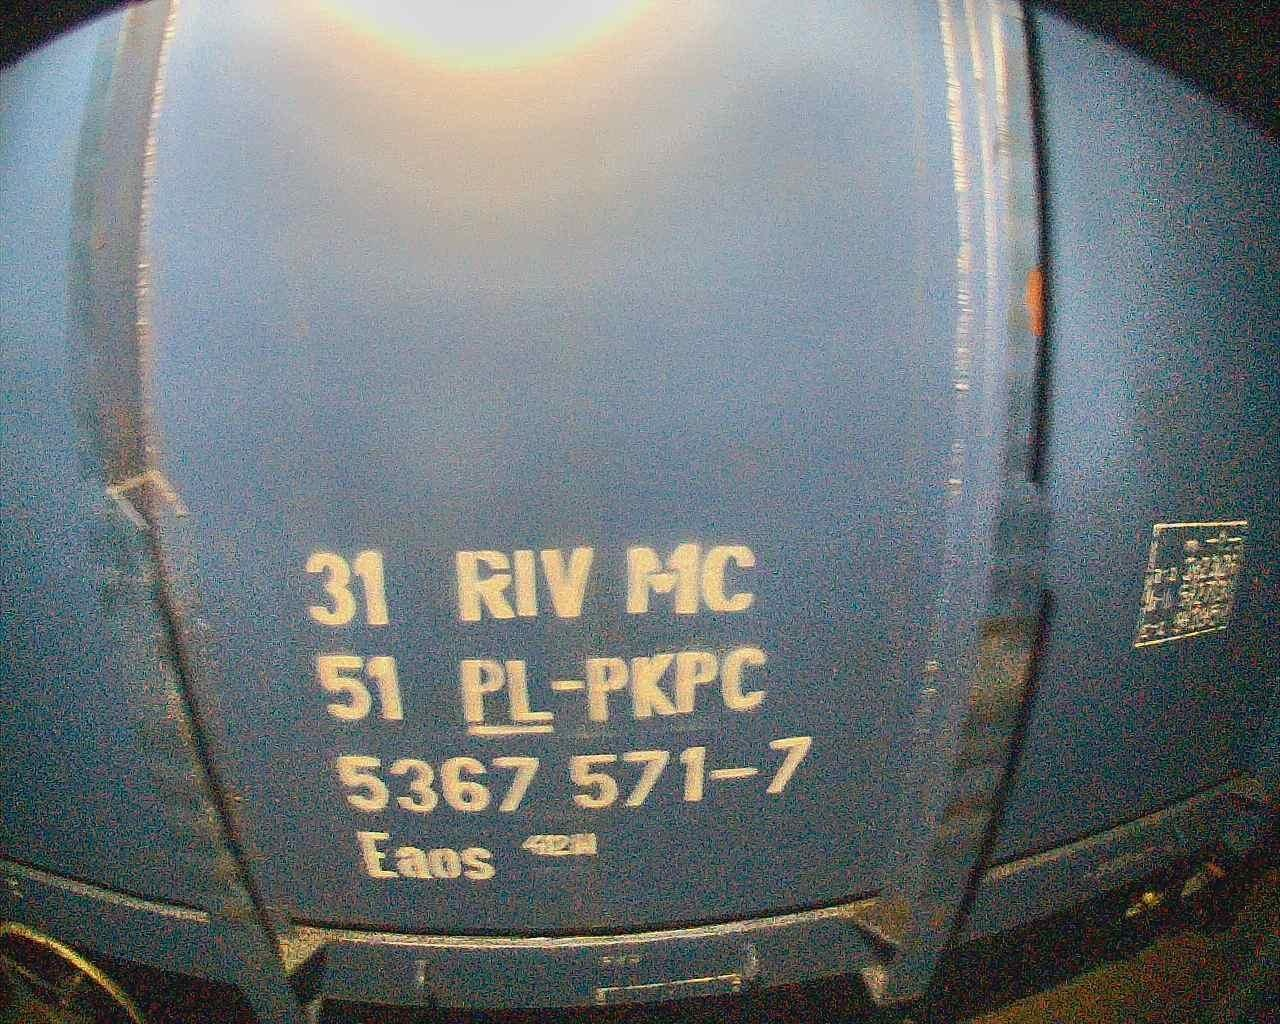UIC: (300, 539, 814, 886)
